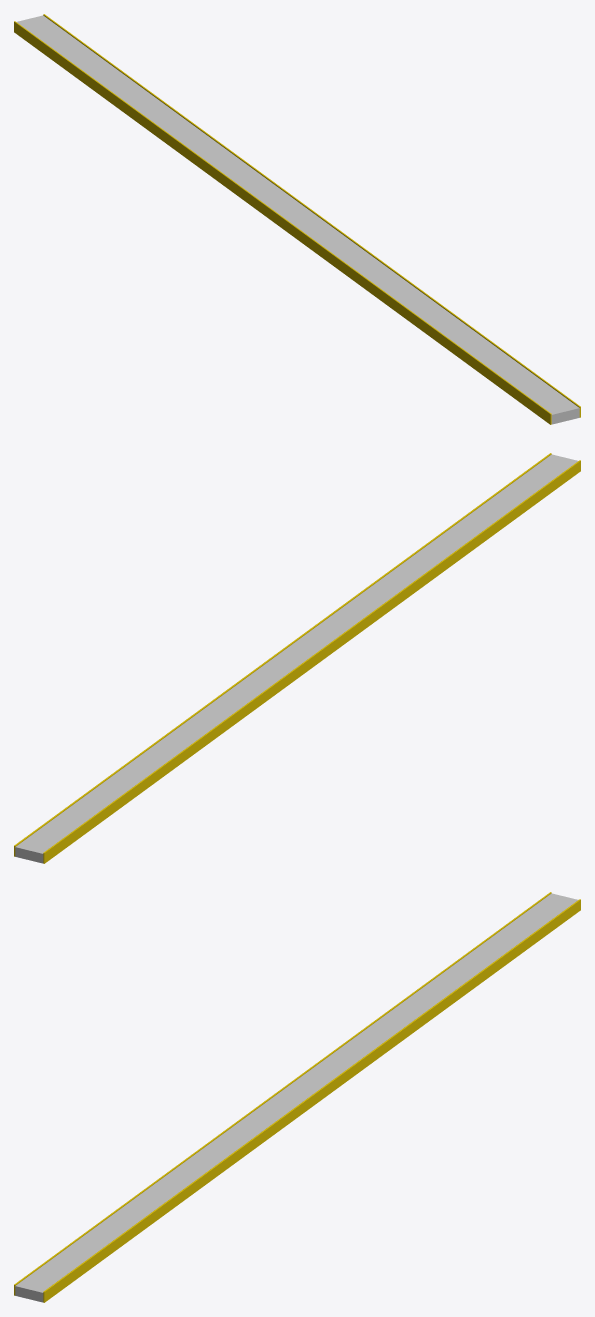
File: road.fbx
3 renders of one model, top to bottom at view 1: azimuth 30°, elevation 25°; view 2: azimuth 150°, elevation 25°; view 3: azimuth 330°, elevation 25°, orthographic.
Parts seen in each view (by area): view 1: road; view 2: road; view 3: road.
Boxes of the visible parts, x1,y1,x2,y2 form: road: (14,14,580,424); road: (14,453,580,863); road: (14,892,580,1302).
Size of the model in its own units: 656 by 224 by 20000.
